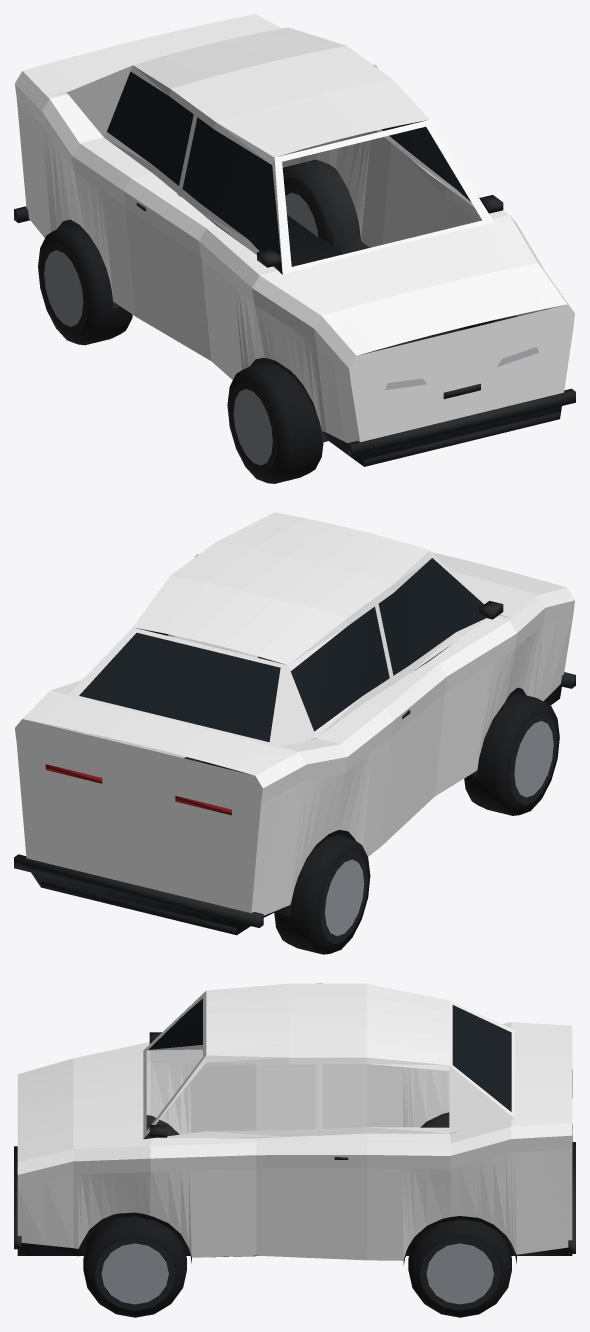
Rendered from whitlock_campestre.glb.
3 renders of one model, top to bottom at view 1: azimuth 30°, elevation 25°; view 2: azimuth 150°, elevation 25°; view 3: azimuth 270°, elevation 25°, orthographic. The views are drawn at different scales.
Visible parts, largest first — view 1: Body_Paint, Body_Details, Mount_FrontLeft_Wheel_Details, Mount_RearLeft_Wheel_Details, Mount_RearRight_Wheel_Details; view 2: Body_Paint, Body_Details, Mount_FrontLeft_Wheel_Details, Mount_RearLeft_Wheel_Details; view 3: Body_Paint, Body_Details, Mount_FrontRight_Wheel_Details, Mount_RearRight_Wheel_Details.
Boxes of the visible parts, x1=… form: Body_Paint: x1=15, y1=14, x2=574, y2=443; Body_Details: x1=14, y1=71, x2=575, y2=466; Mount_FrontLeft_Wheel_Details: x1=227, y1=362, x2=323, y2=483; Mount_RearLeft_Wheel_Details: x1=38, y1=224, x2=132, y2=345; Mount_RearRight_Wheel_Details: x1=284, y1=176, x2=328, y2=242; Body_Paint: x1=15, y1=512, x2=574, y2=915; Body_Details: x1=14, y1=558, x2=575, y2=935; Mount_FrontLeft_Wheel_Details: x1=464, y1=693, x2=559, y2=815; Mount_RearLeft_Wheel_Details: x1=274, y1=834, x2=370, y2=954; Body_Paint: x1=17, y1=983, x2=572, y2=1260; Body_Details: x1=14, y1=998, x2=575, y2=1265; Mount_FrontRight_Wheel_Details: x1=83, y1=1216, x2=186, y2=1317; Mount_RearRight_Wheel_Details: x1=408, y1=1219, x2=511, y2=1317.
Bounding box in the file's own units: 2.04 × 1.97 × 4.11.
2 materials, 1 textured.
